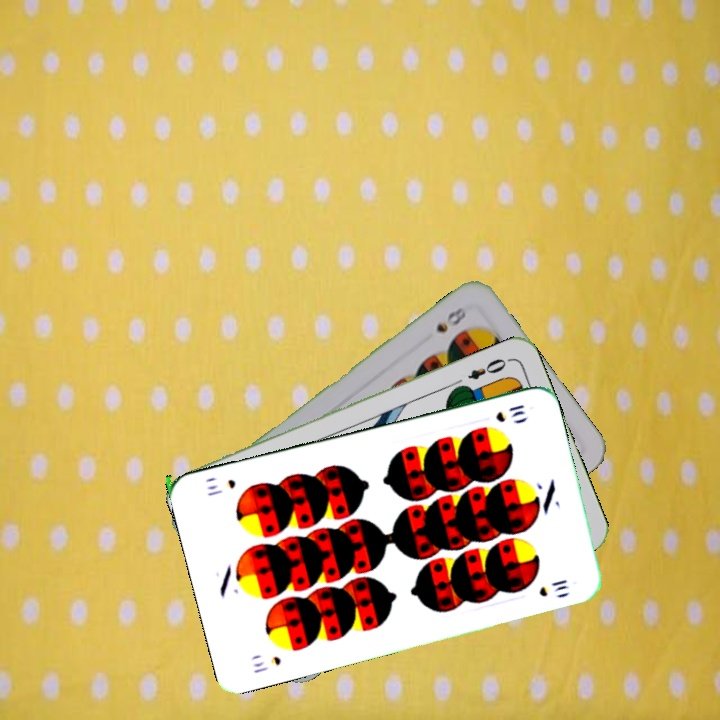EO: (463, 354, 513, 383)
S10: (491, 400, 528, 425), (249, 651, 284, 676)
S8: (432, 302, 471, 336)
